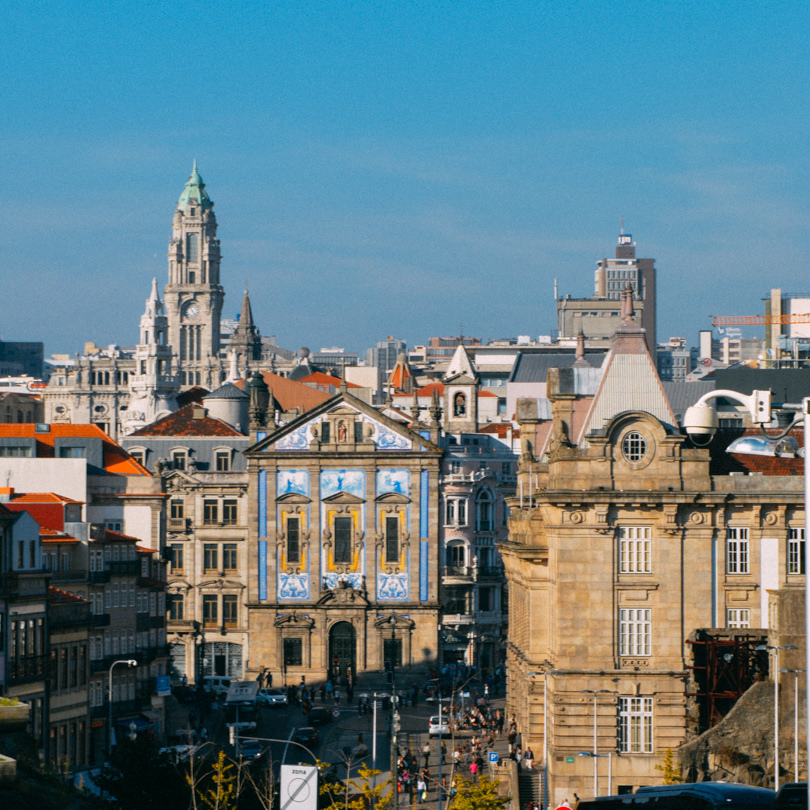camara: (496, 411, 809, 809)
